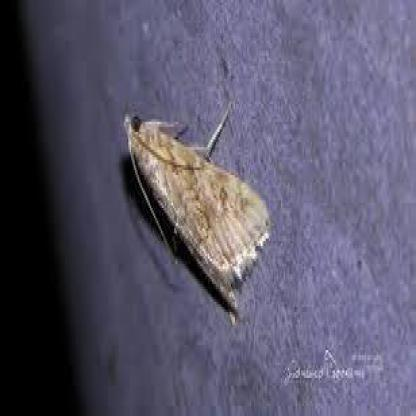Hellula undalis: (119, 96, 275, 324)
